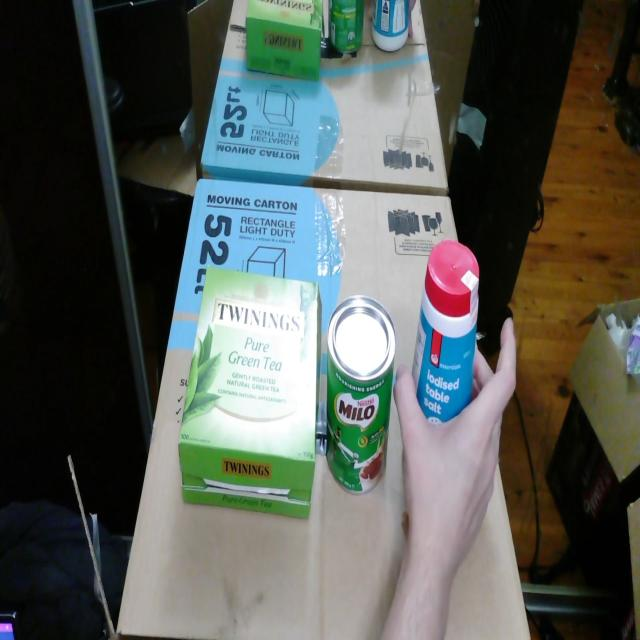nestle_milo_tin: (326, 295, 396, 494)
twinings_greentea_box: (178, 267, 322, 517)
woolworths_salt_bottle: (412, 240, 479, 424)
